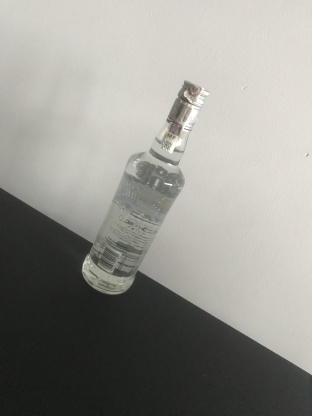nakretka: (164, 78, 210, 134)
